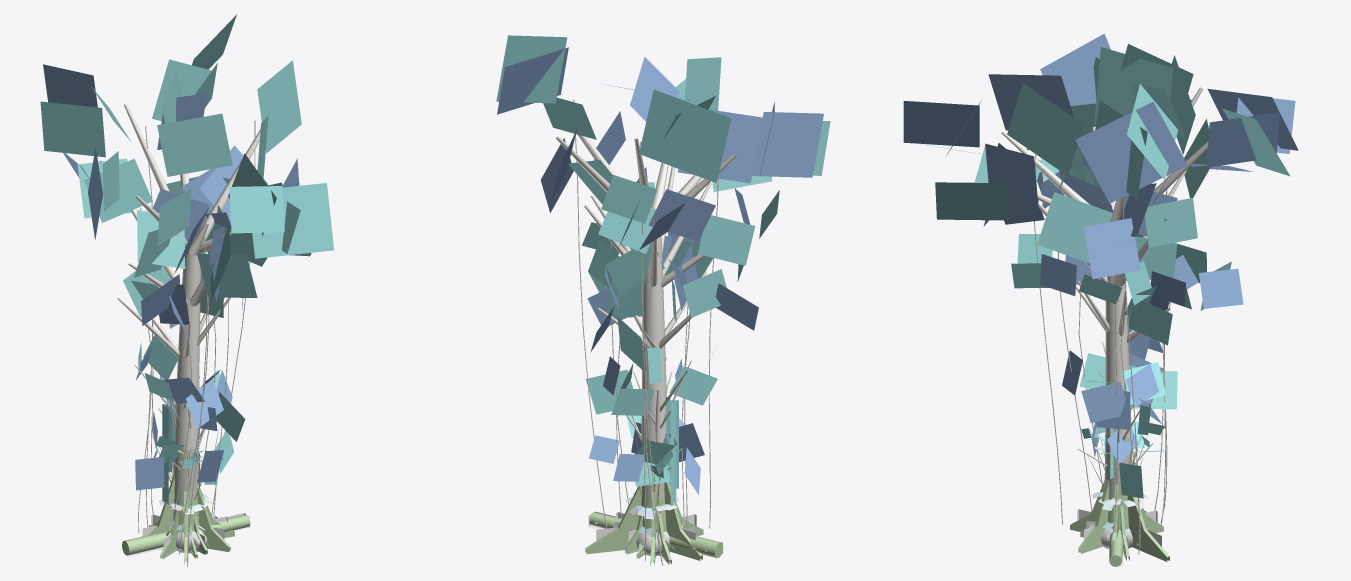
The model's file is kit-rimba.glb.
3 renders of one model, left to right at view 1: azimuth 30°, elevation 25°; view 2: azimuth 150°, elevation 25°; view 3: azimuth 270°, elevation 25°, orthographic. The views are drawn at different scales.
Parts seen in each view (by area): view 1: giant_b__L0__leafCanopy, giant_a__L0__leafCanopy, giant_b__L0__barkMoss, giant_c__L0__leafCanopy, rtree_b__L0__leafTree, rtree_c__L0__leafTree, giant_a__L0__barkMoss, giant_c__L0__barkMoss, rtree_a__L0__leafTree, log_fallen__L0__barkMoss, vines__L0__leafVine; view 2: giant_b__L0__leafCanopy, giant_a__L0__leafCanopy, giant_b__L0__barkMoss, giant_c__L0__leafCanopy, rtree_c__L0__leafTree, giant_a__L0__barkMoss, rtree_a__L0__leafTree, rtree_b__L0__leafTree, giant_c__L0__barkMoss, vines__L0__leafVine, log_fallen__L0__barkMoss, rtree_b__L0__barkMoss; view 3: giant_b__L0__leafCanopy, giant_a__L0__leafCanopy, giant_c__L0__leafCanopy, giant_b__L0__barkMoss, rtree_b__L0__leafTree, rtree_a__L0__leafTree, giant_a__L0__barkMoss, rtree_c__L0__leafTree, giant_c__L0__barkMoss.
Part boxes in pixels (x1,y1,x2,y2): giant_b__L0__leafCanopy: (40, 14, 333, 258); giant_a__L0__leafCanopy: (63, 145, 311, 301); giant_b__L0__barkMoss: (124, 103, 260, 566); giant_c__L0__leafCanopy: (123, 265, 243, 336); rtree_b__L0__leafTree: (136, 335, 223, 428); rtree_c__L0__leafTree: (135, 411, 233, 490); giant_a__L0__barkMoss: (128, 207, 231, 559); giant_c__L0__barkMoss: (117, 297, 230, 558); rtree_a__L0__leafTree: (168, 369, 245, 441); log_fallen__L0__barkMoss: (122, 515, 250, 555); vines__L0__leafVine: (162, 403, 176, 504); giant_b__L0__leafCanopy: (496, 35, 830, 204); giant_a__L0__leafCanopy: (540, 138, 779, 265); giant_b__L0__barkMoss: (555, 99, 736, 565); giant_c__L0__leafCanopy: (582, 222, 758, 371); rtree_c__L0__leafTree: (589, 415, 704, 494); giant_a__L0__barkMoss: (584, 166, 711, 564); rtree_a__L0__leafTree: (585, 357, 717, 414); rtree_b__L0__leafTree: (603, 347, 713, 415); giant_c__L0__barkMoss: (598, 270, 706, 565); vines__L0__leafVine: (666, 397, 678, 505); log_fallen__L0__barkMoss: (589, 512, 723, 558); rtree_b__L0__barkMoss: (633, 361, 691, 442); giant_b__L0__leafCanopy: (903, 33, 1298, 220); giant_a__L0__leafCanopy: (974, 119, 1253, 279); giant_c__L0__leafCanopy: (1011, 234, 1243, 345); giant_b__L0__barkMoss: (1001, 87, 1208, 561); rtree_b__L0__leafTree: (1062, 313, 1166, 407); rtree_a__L0__leafTree: (1081, 365, 1177, 434); giant_a__L0__barkMoss: (1038, 169, 1187, 560); rtree_c__L0__leafTree: (1091, 421, 1165, 498); giant_c__L0__barkMoss: (1075, 281, 1170, 547).
Size of the model in its own units: 35.01 by 48.88 by 40.93.
